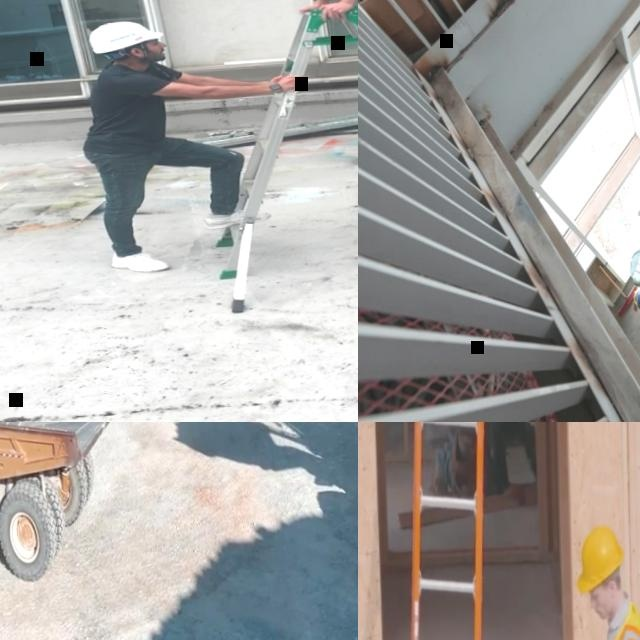Hardhat: (574, 522, 626, 592), (88, 19, 164, 54), (636, 288, 640, 308)
NO-Mask: (142, 45, 168, 61), (595, 596, 611, 619)
NO-Safety Vest: (86, 61, 179, 147)
Person: (77, 13, 313, 274), (232, 0, 358, 101), (430, 422, 505, 502), (633, 285, 640, 339)
Safety Vest: (633, 285, 640, 321)
machinery: (0, 422, 135, 591)
